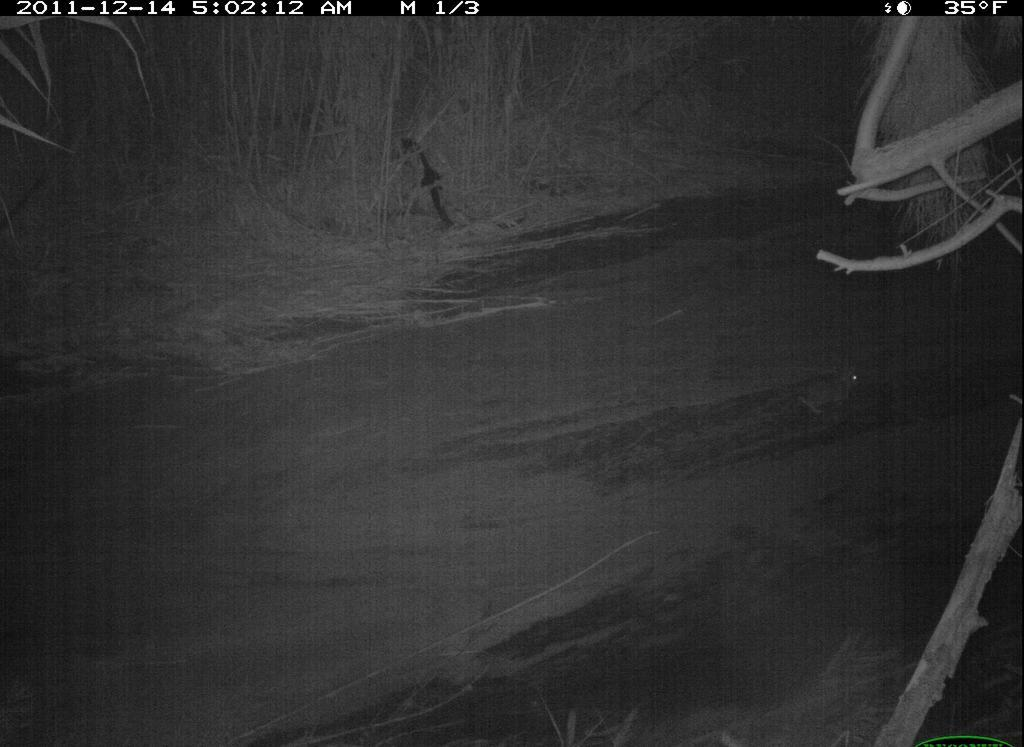rabbit: (776, 354, 871, 424)
